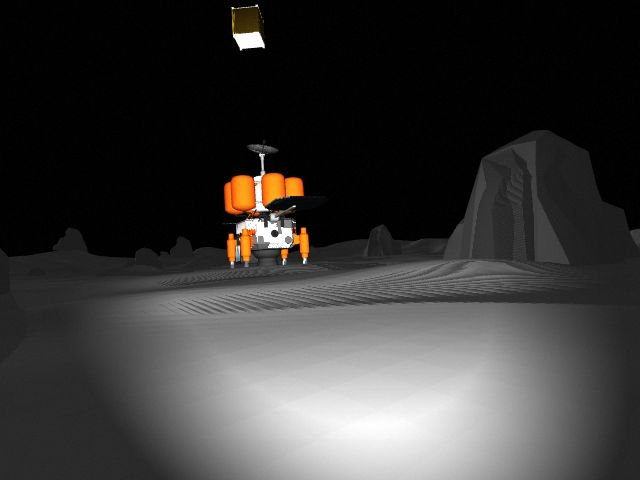cubesat: (226, 1, 275, 57)
